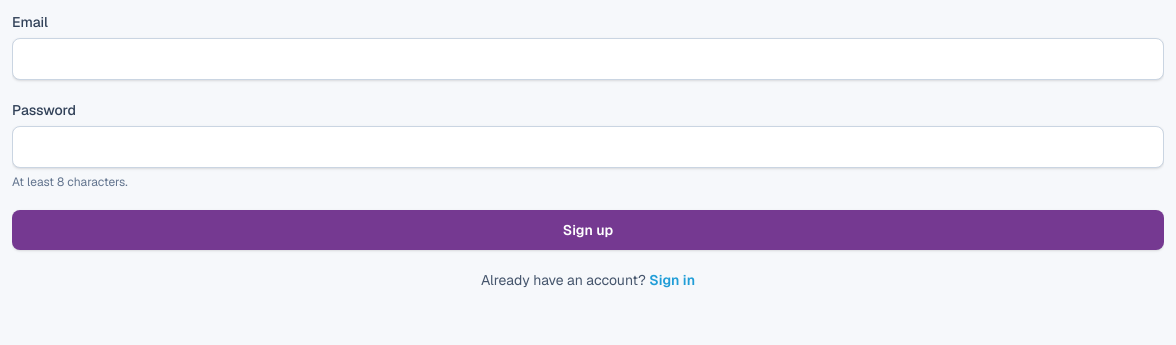
Test case: AuthForm › shows a generic message on a network error
This screenshot has width=1176, height=345.
Type "a@example.com" into the field labelled "Email" at x=588, y=59, box [12,38,1164,80]
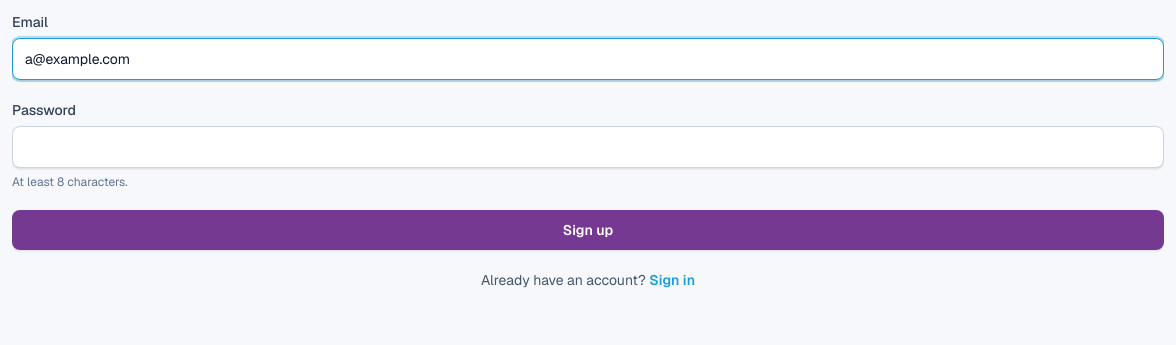
Type "secret-password" into the password field labelled "Password" at x=588, y=147, box [12,126,1164,168]
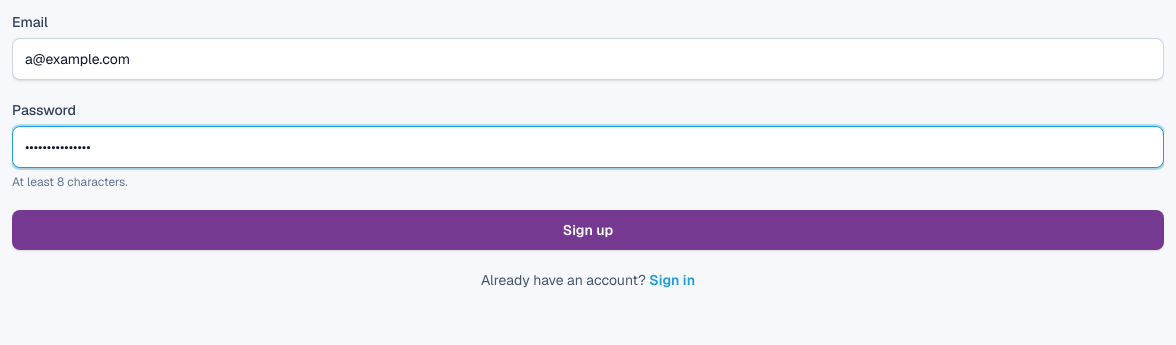
Click the button "Sign up" at x=588, y=230, box [12,210,1164,250]
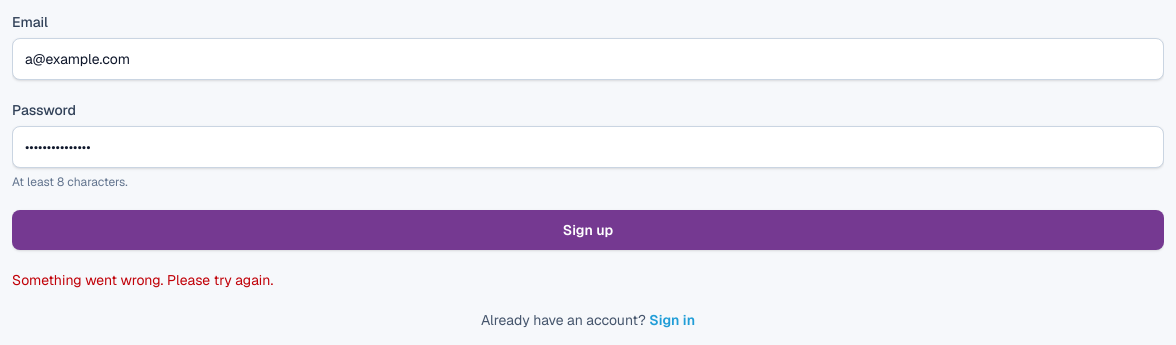
Expected: the message reads "Something went wrong. Please try again.", [12,271,273,289]
